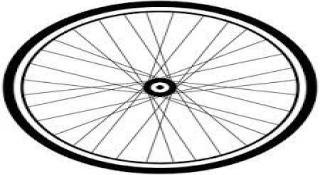Circle: (1, 1, 317, 174)
